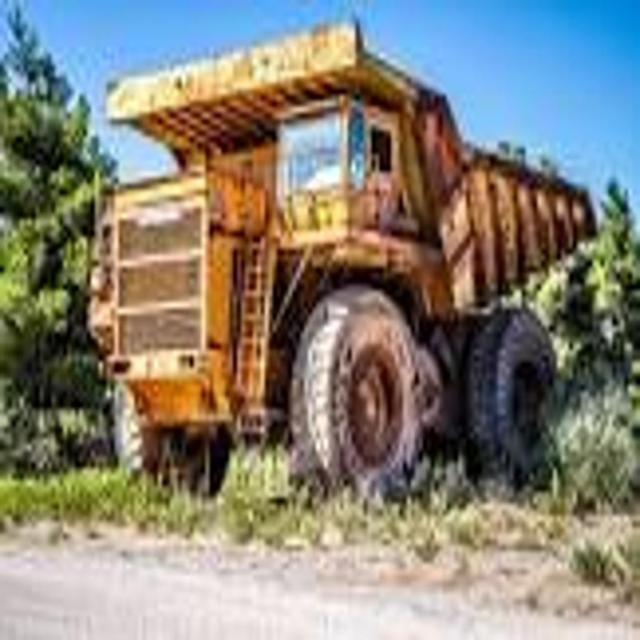dump_truck: (93, 15, 594, 496)
